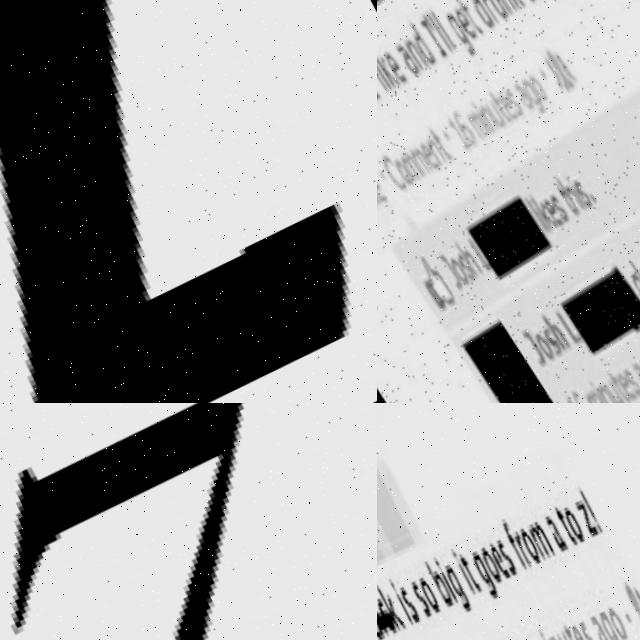1: (439, 113, 466, 154), (550, 390, 580, 403)
6: (444, 107, 475, 151), (558, 386, 590, 403)
7: (0, 403, 377, 640)
L: (0, 0, 377, 403)
